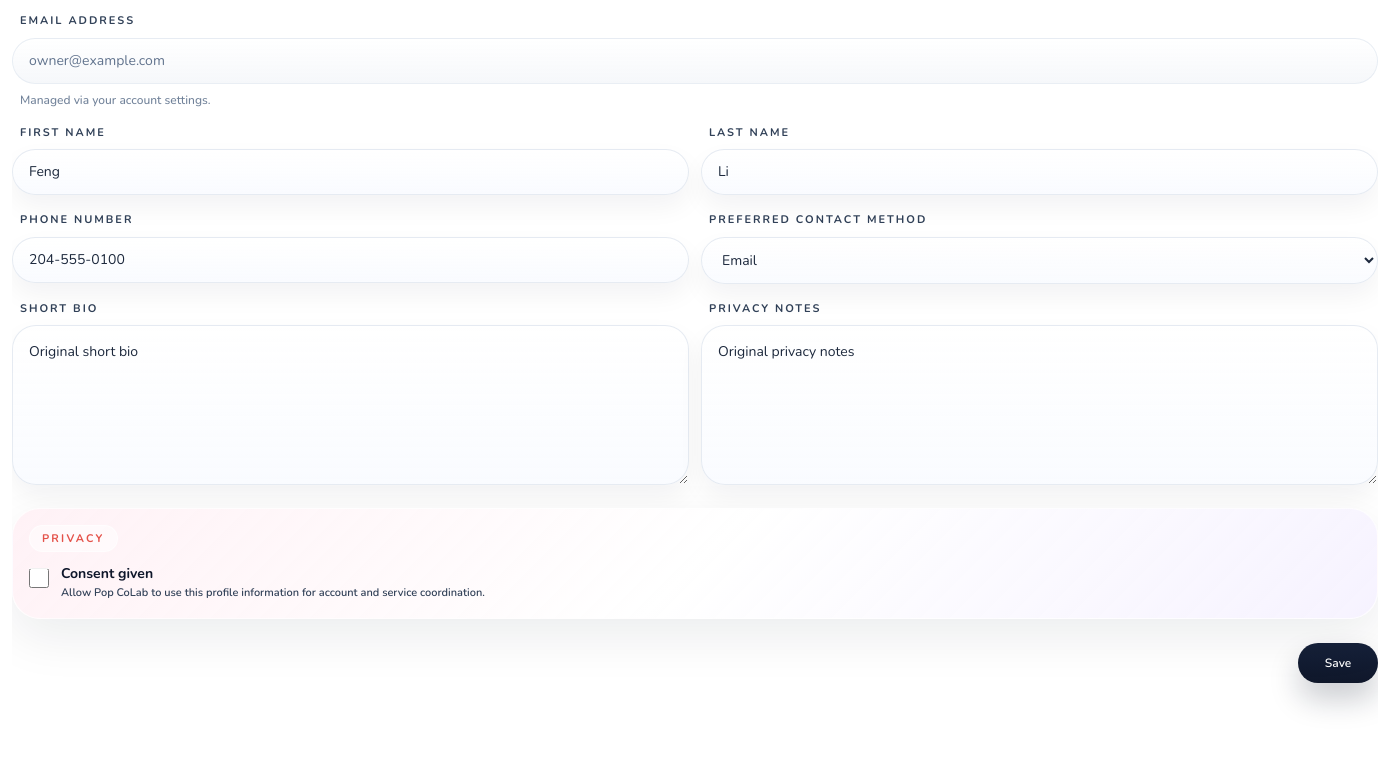
Scenario: profile components › ProfileForm submits edited values and shows a success message
This screenshot has width=1390, height=780.
Replace the text in the field labelled "First name" with "Fiona": (350, 172) [12,149,689,195]
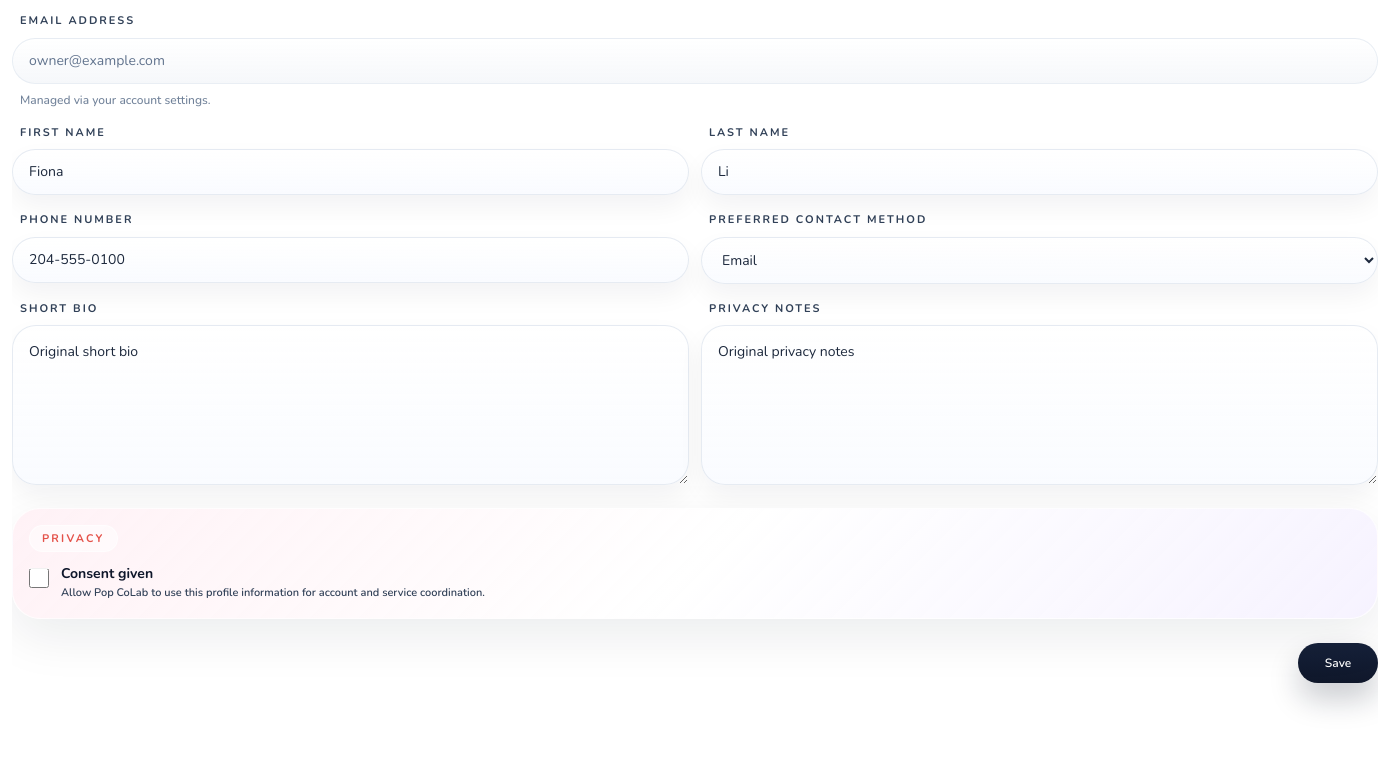
Replace the text in the text box labelled "Short bio" with "Updated short bio": (350, 405) [12,325,689,485]
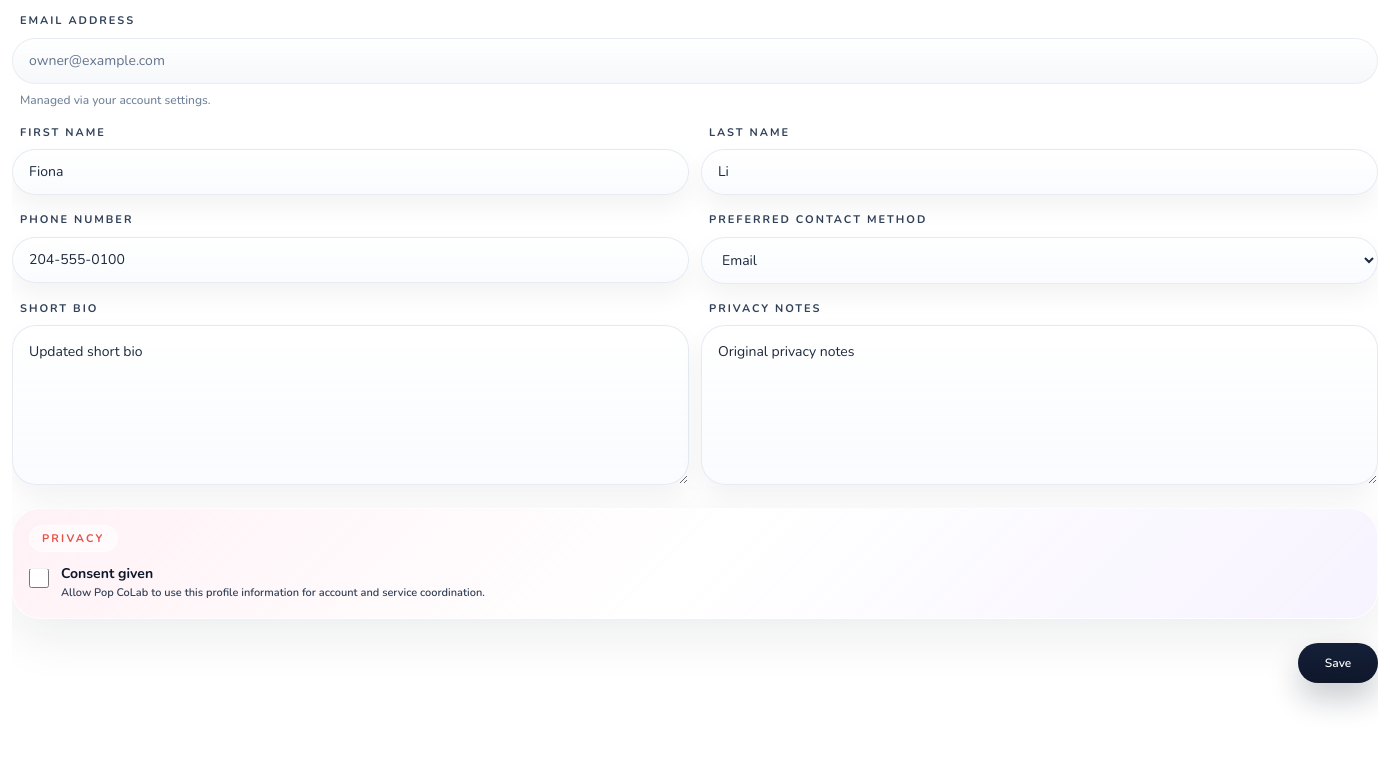
Click the checkbox labelled "Consent given": (39, 578) [29,568,49,588]
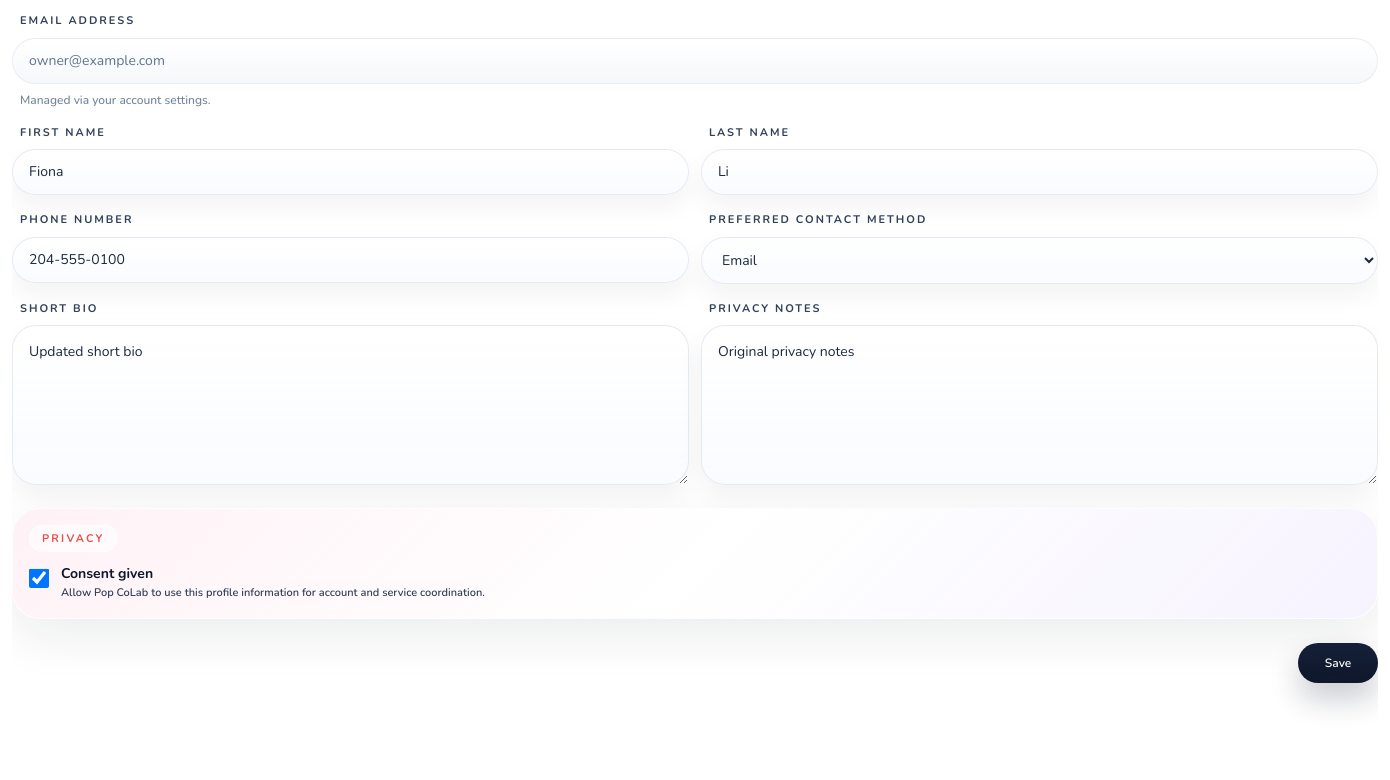
Click the button "Save": (1338, 663) [1298,643,1378,683]
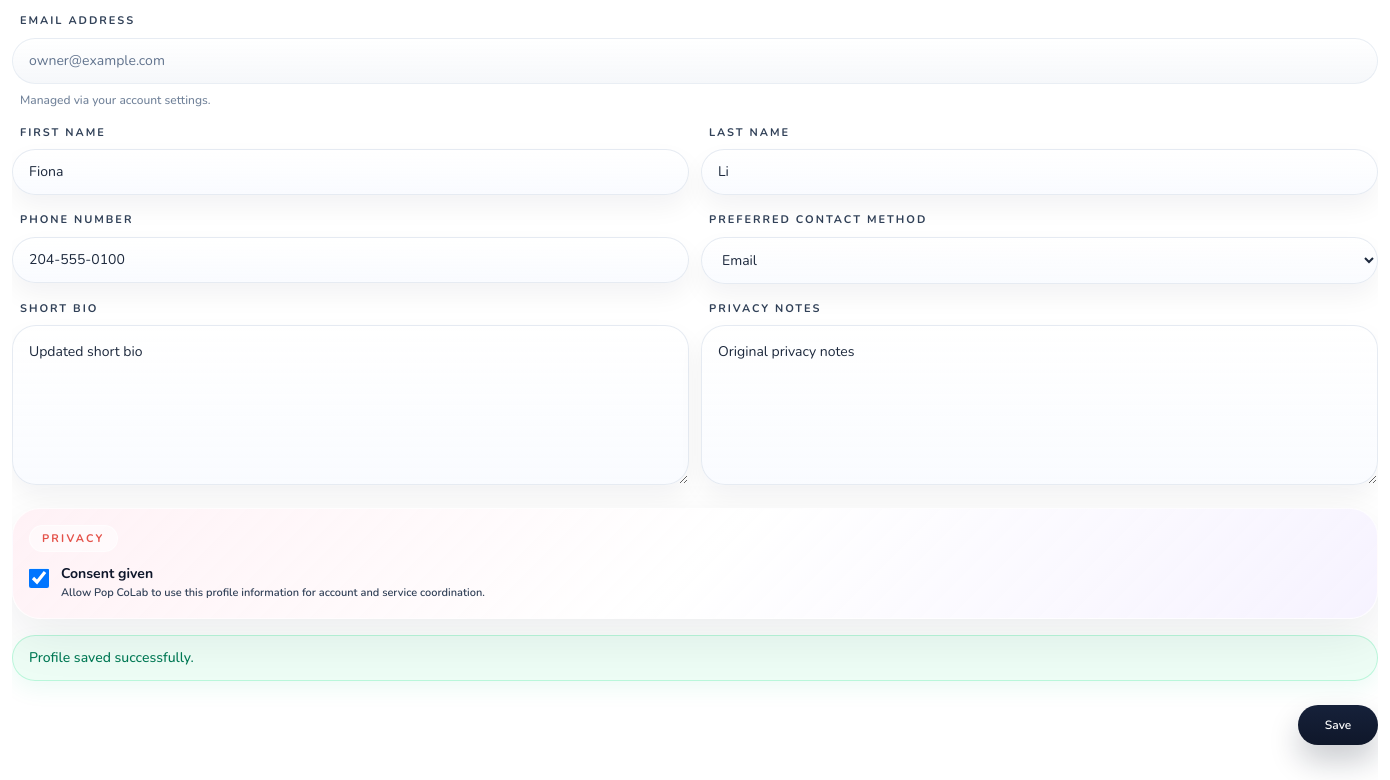
Result: the text "Profile saved successfully." is shown at [12,635,1378,681]
